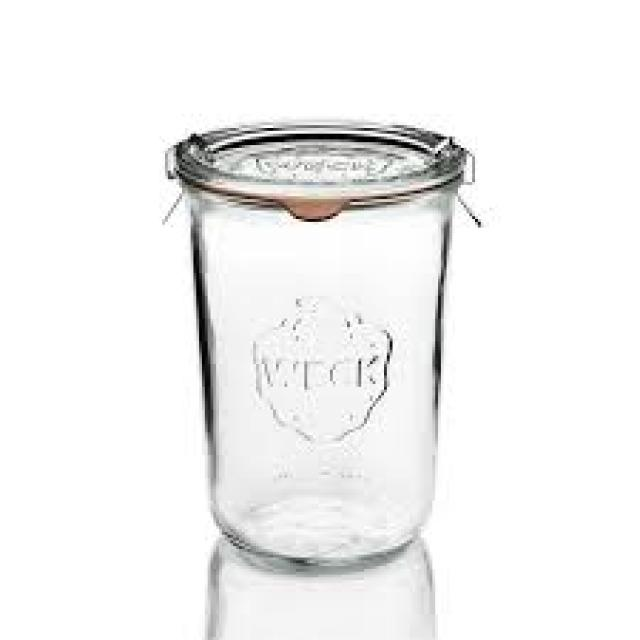glass: (176, 125, 461, 563)
